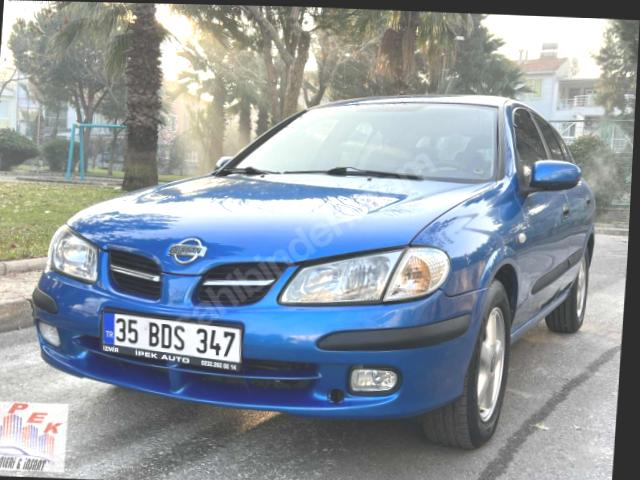plaka: (102, 313, 241, 370)
